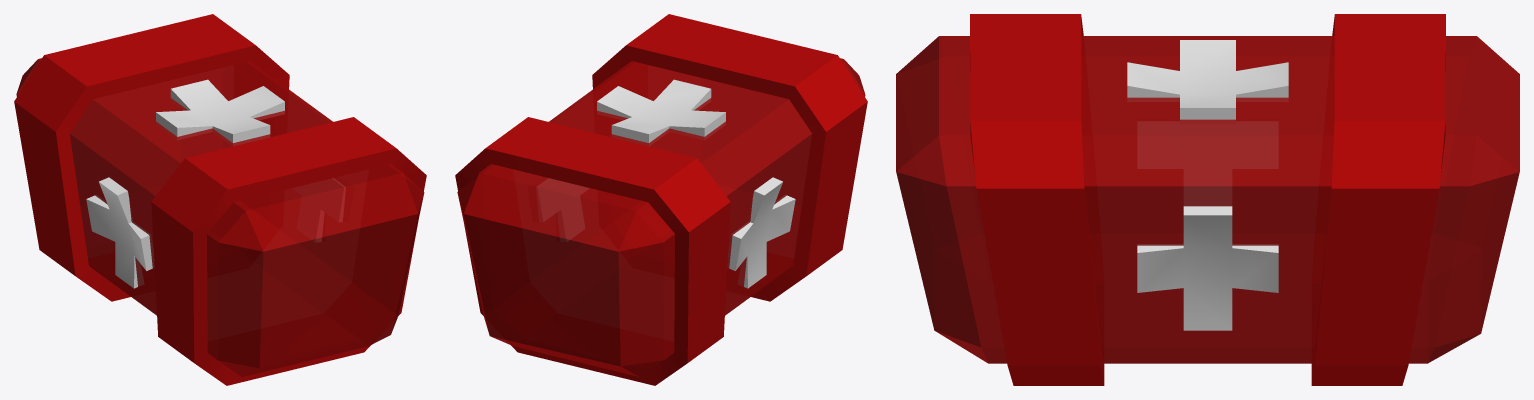
The model's file is medkit.fbx.
3 views of the same model, side by side, from view 1: azimuth 30°, elevation 25°; view 2: azimuth 150°, elevation 25°; view 3: azimuth 270°, elevation 25° (orthographic). The views are drawn at different scales.
Visible parts, largest first — view 1: pCube5; view 2: pCube5; view 3: pCube5.
Boxes of the visible parts, bbox=[...] form: pCube5: bbox=[14, 14, 426, 385]; pCube5: bbox=[455, 14, 867, 385]; pCube5: bbox=[896, 14, 1519, 385].
Bounding box in the file's own units: 4.86 × 4.22 × 8.67.
